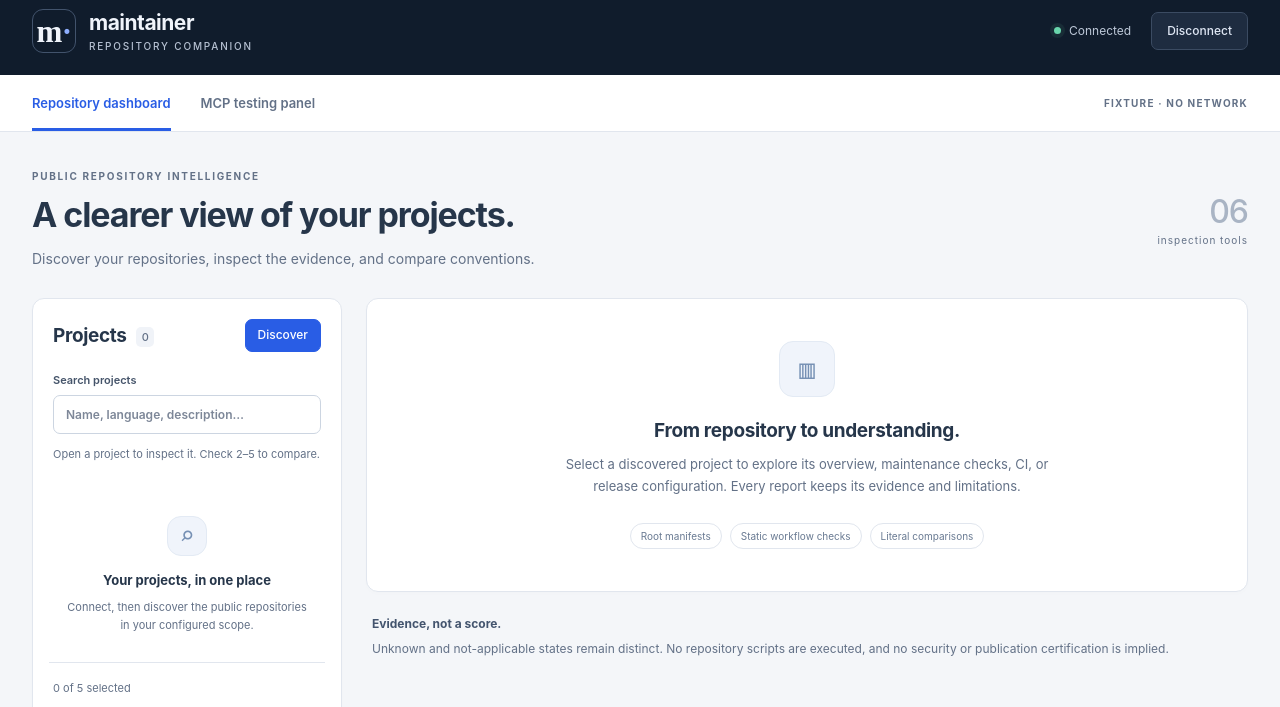
Test: request context and accessible completion › shows every comparison target in completion feedback and the dashboard result
Expected: the text "Connected" is shown, [1054,24,1131,38]
Click the button "Discover": (283, 336) [244,319,321,352]
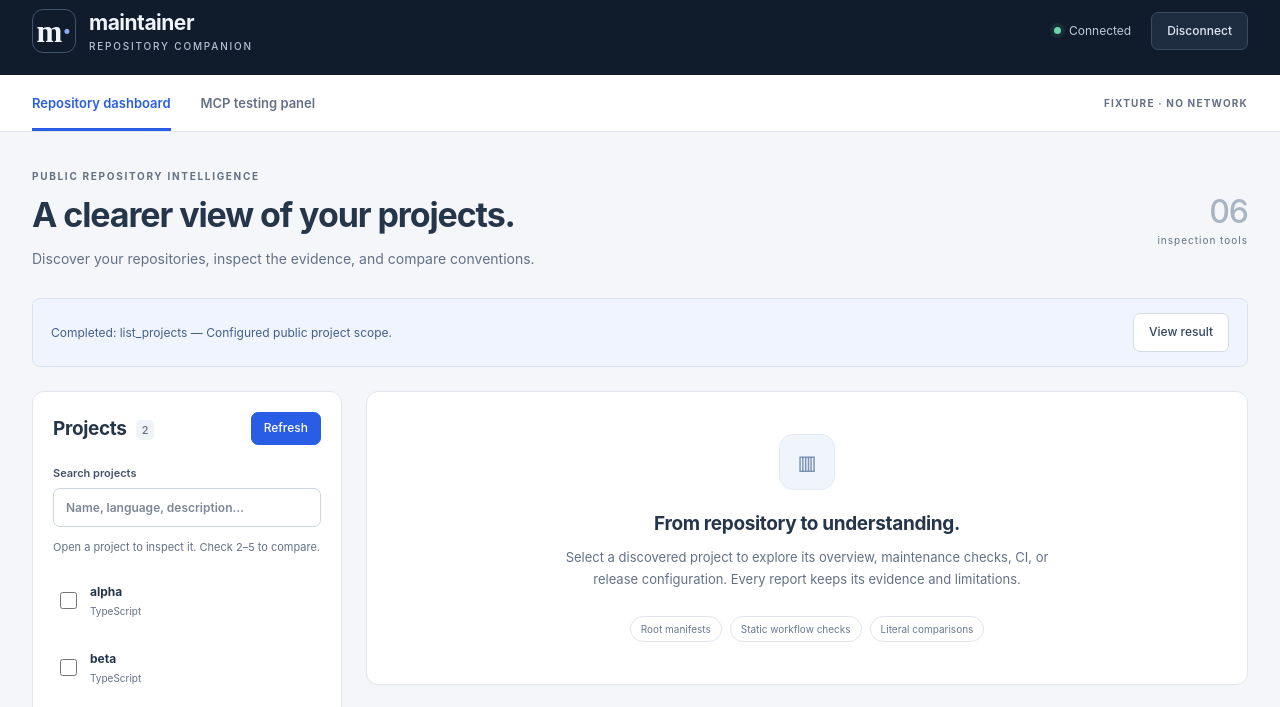
Now the button with aria-label "Open alpha" is shown, box [88,572,318,629]
Click the checkbox named "Compare alpha": (68, 600) [60,592,77,609]
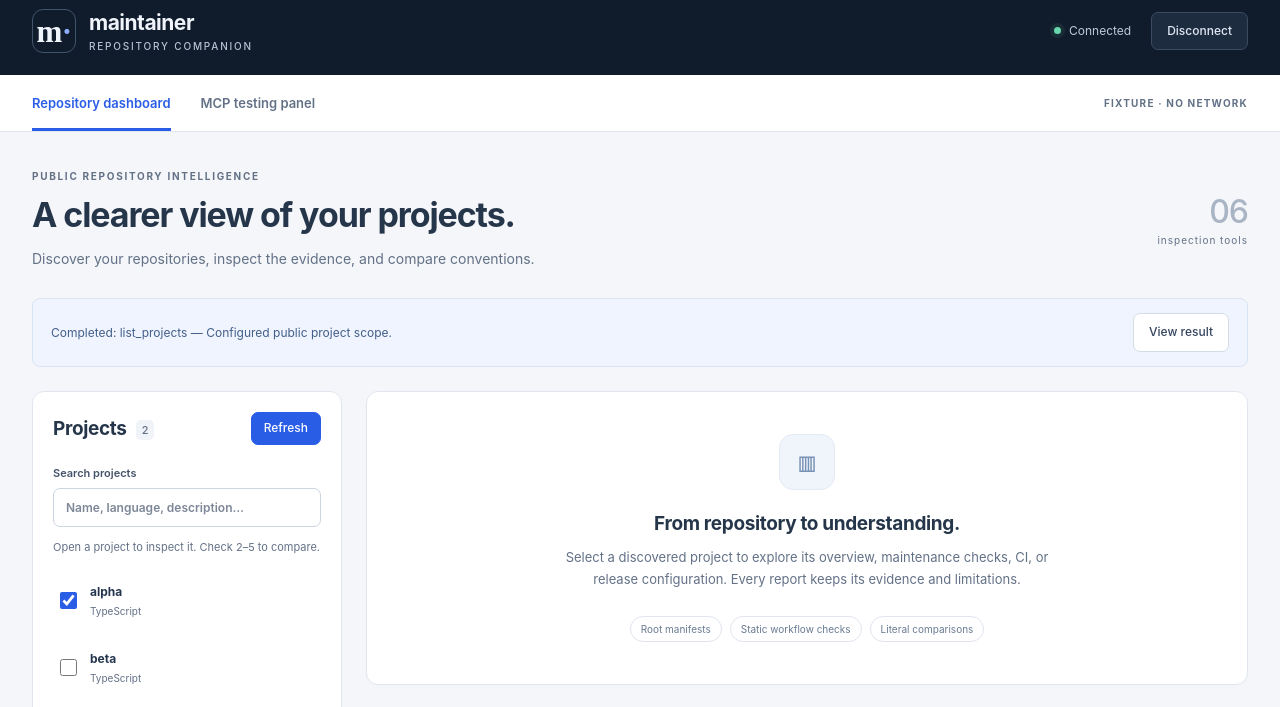
Click the checkbox named "Compare beta": (68, 667) [60,659,77,676]
(page scrolled)
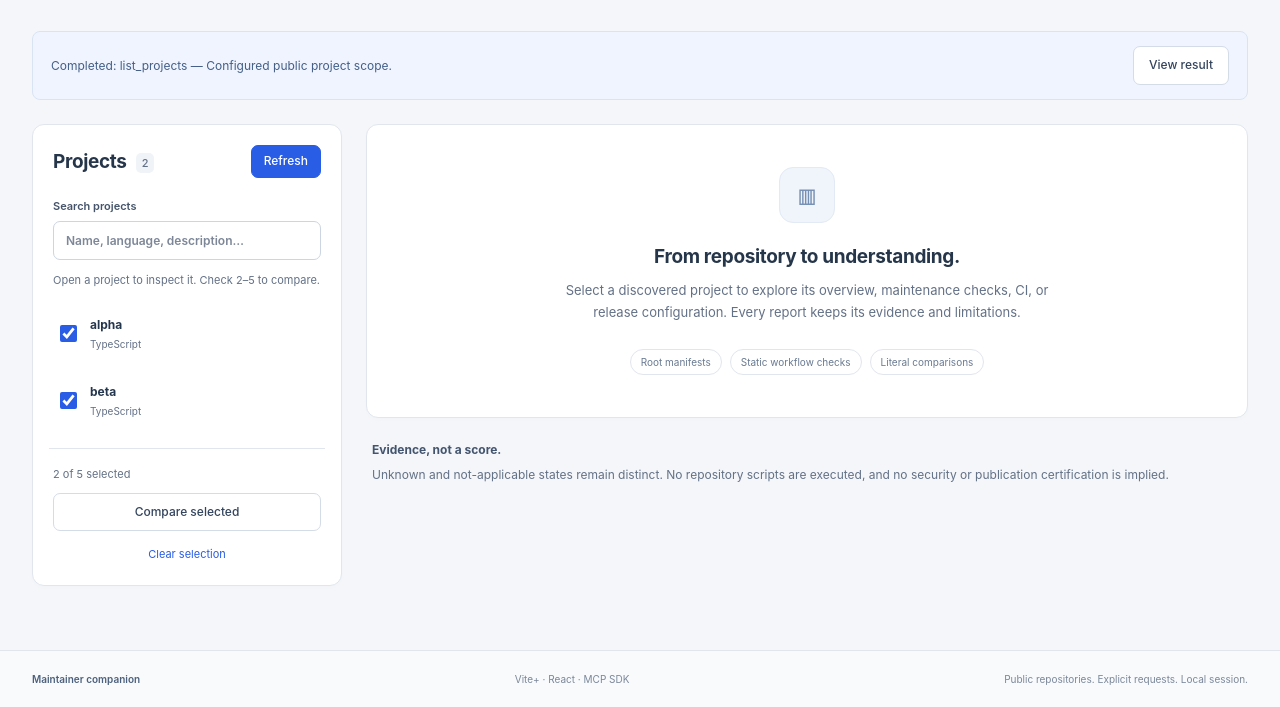
Click the button "Compare selected": (187, 512) [53,493,321,531]
(page scrolled)
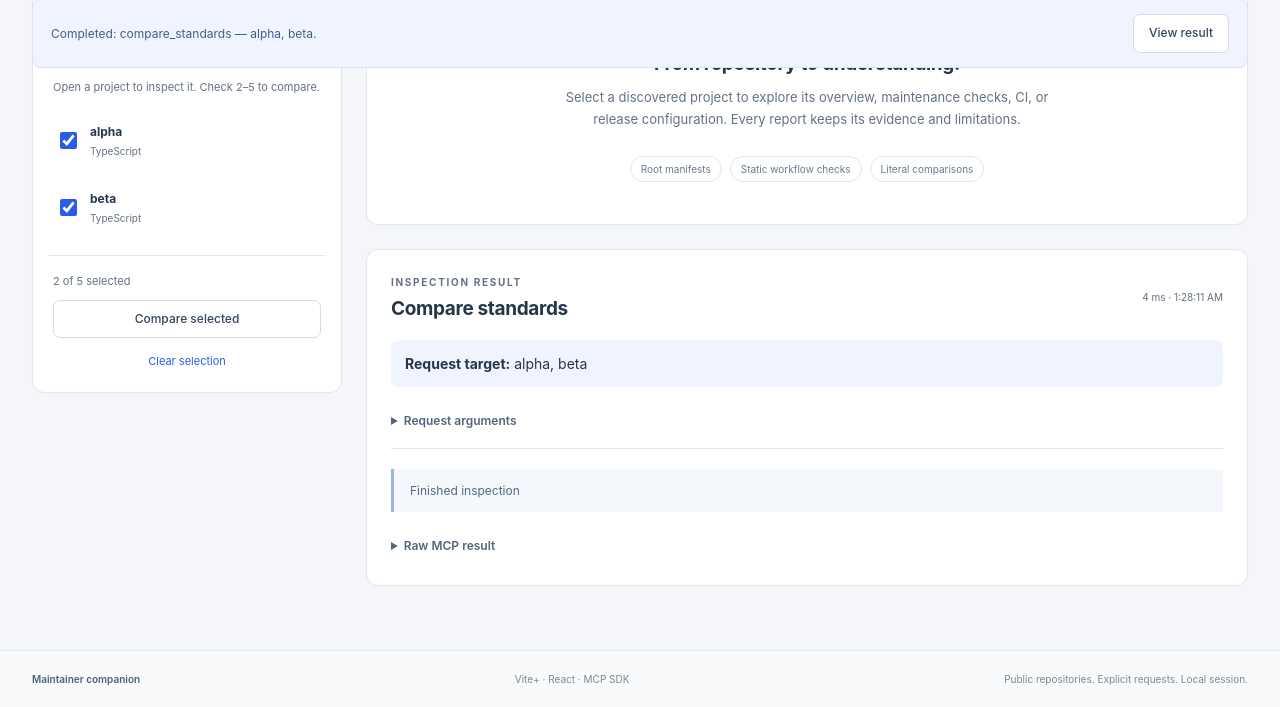
Now the message shows "Completed: compare_standards — alpha, beta", box [51,26,316,41]
Now the element named "Tool result" shows "Request target: alpha, beta", box [366,249,1248,586]
